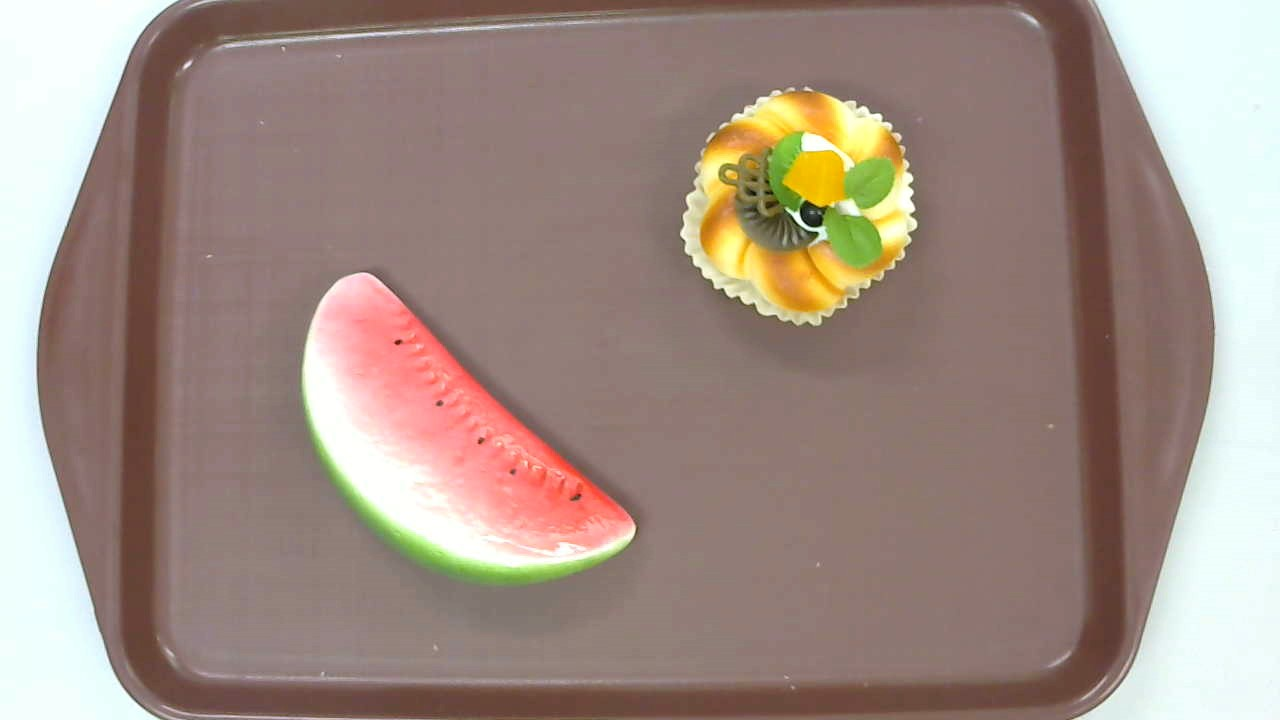fruit tart: (679, 85, 919, 330)
water melon: (300, 272, 638, 587)
